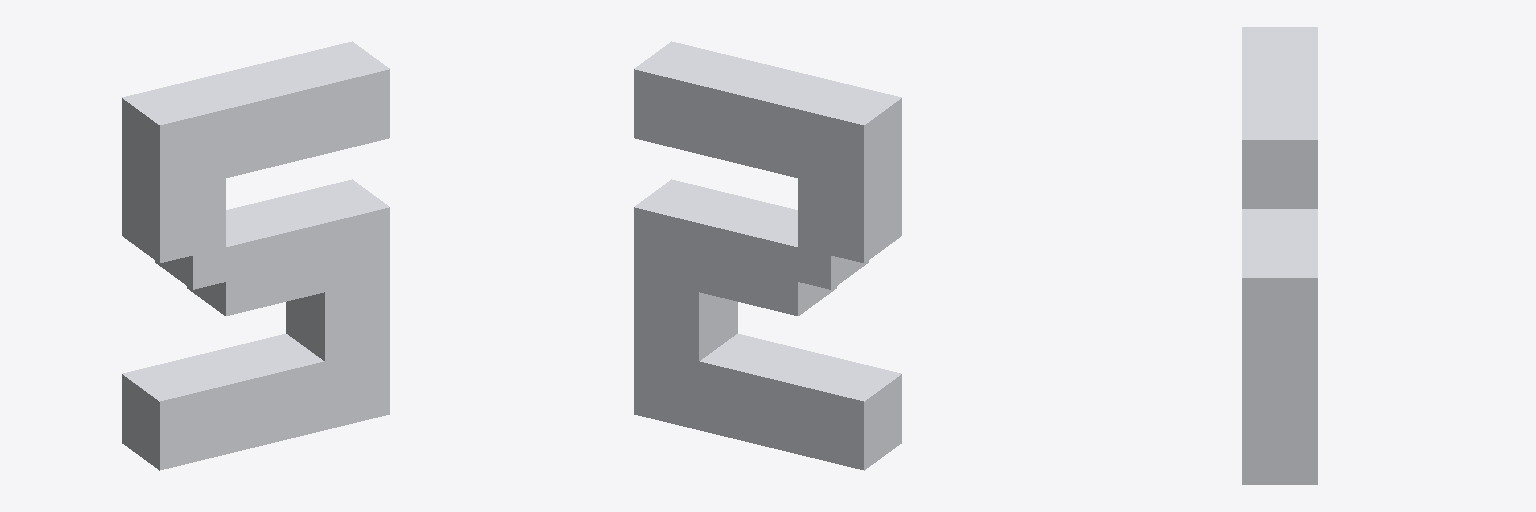
The picture shows the model from 3 angles: view 1: azimuth 30°, elevation 25°; view 2: azimuth 150°, elevation 25°; view 3: azimuth 270°, elevation 25°; orthographic projection.
Visible parts, largest first — view 1: Matrix_9; view 2: Matrix_9; view 3: Matrix_9.
Boxes of the visible parts, x1=… form: Matrix_9: x1=122, y1=41, x2=389, y2=470; Matrix_9: x1=634, y1=41, x2=901, y2=470; Matrix_9: x1=1242, y1=27, x2=1317, y2=484.
Bounding box in the file's own units: 7 × 10 × 2.
Materials: 1 (1 with a texture image).